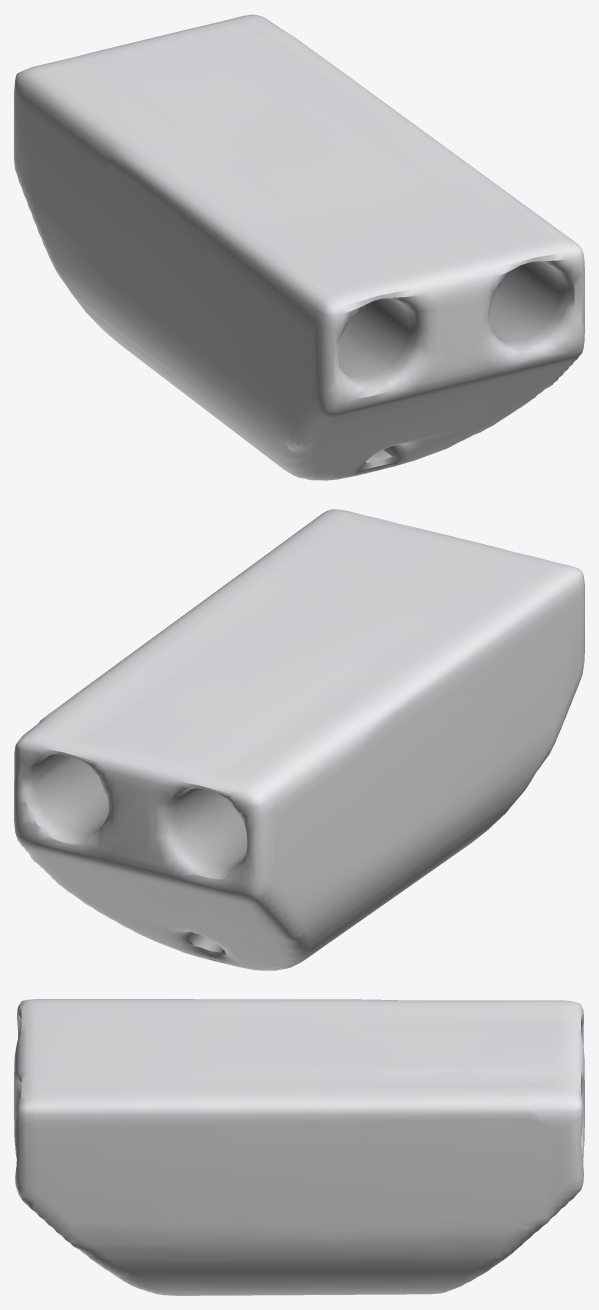
Rendered from right_finger1_lower.obj.
The picture shows the model from 3 angles, top to bottom: view 1: azimuth 30°, elevation 25°; view 2: azimuth 150°, elevation 25°; view 3: azimuth 270°, elevation 25°; orthographic projection. The views are drawn at different scales.
Parts seen in each view (by area): view 1: right_finger1_lower; view 2: right_finger1_lower; view 3: right_finger1_lower.
Part boxes in pixels (x1=…): right_finger1_lower: x1=14, y1=14, x2=584, y2=480; right_finger1_lower: x1=14, y1=509, x2=584, y2=970; right_finger1_lower: x1=14, y1=999, x2=584, y2=1295.
Bounding box in the file's own units: 0.0108 × 0.0104 × 0.0232.
1 material, 1 textured.
